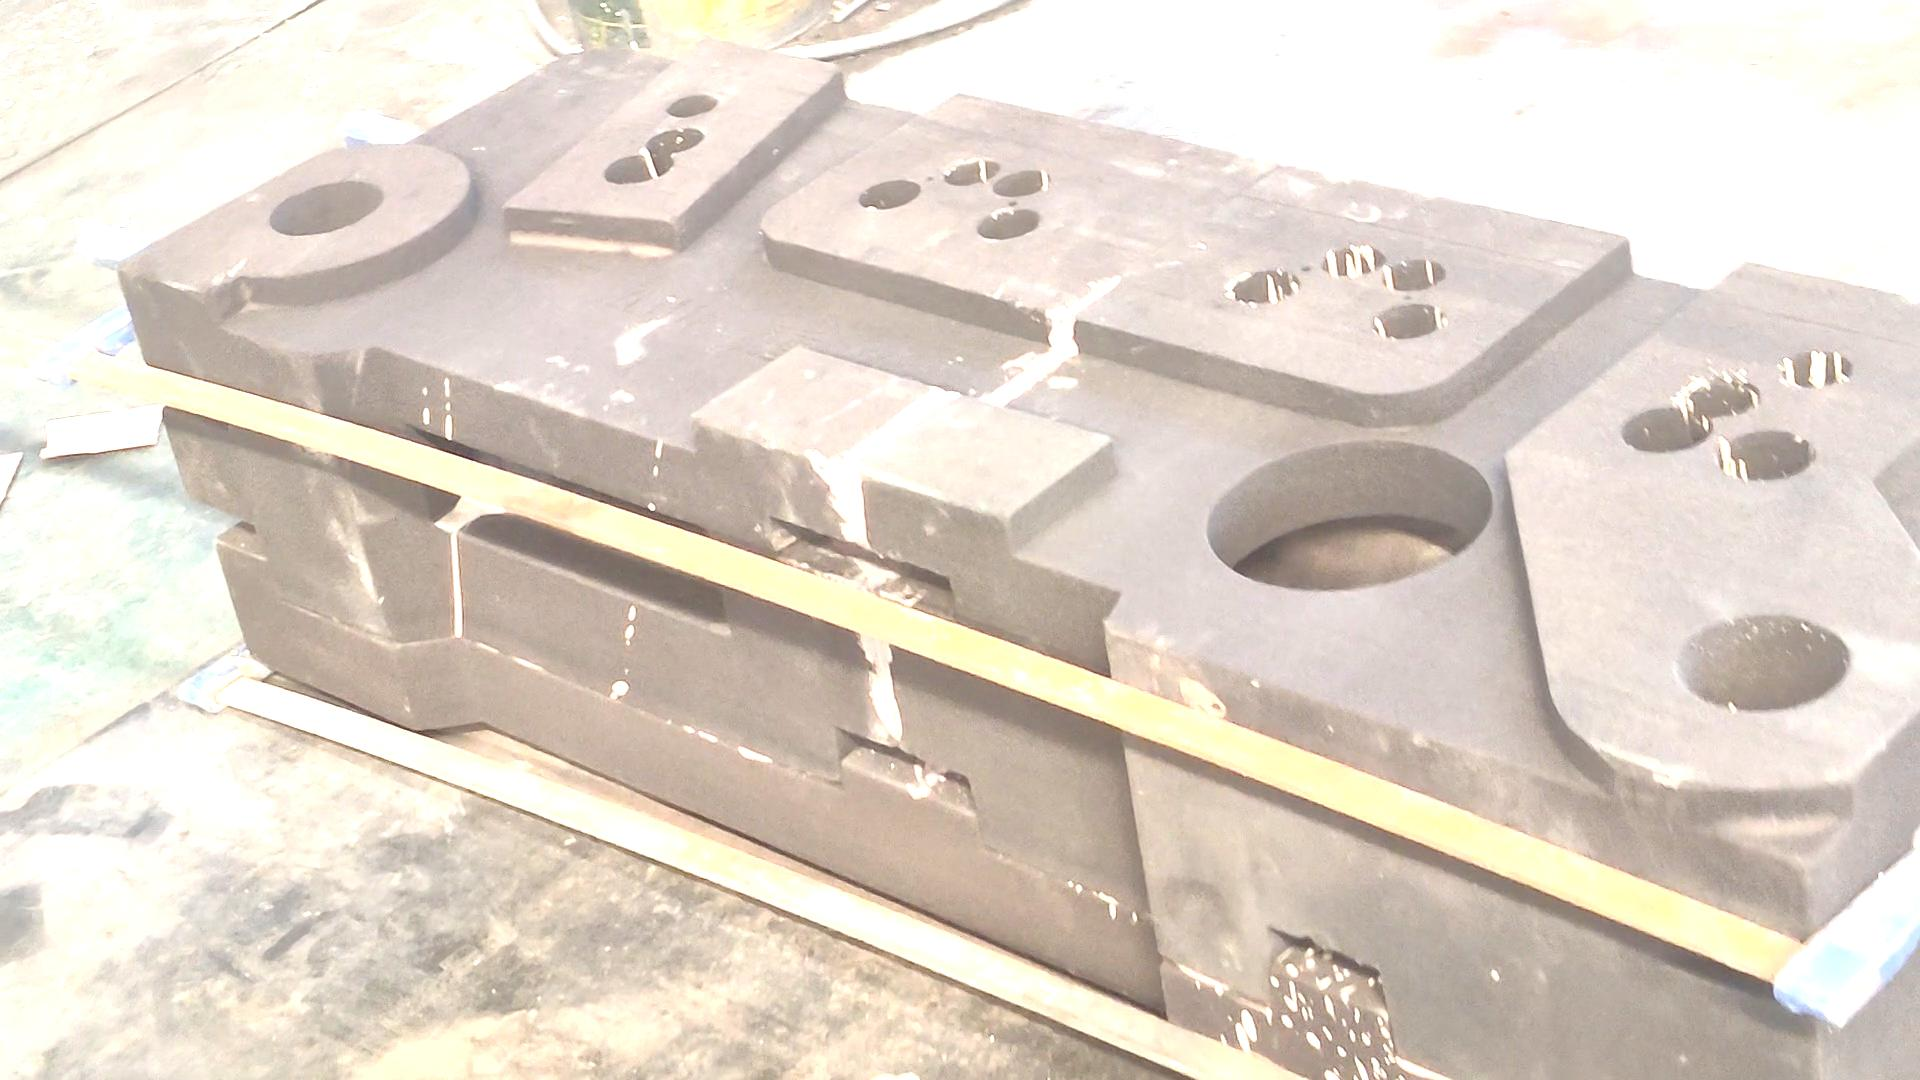pouring hole: (1673, 612, 1851, 711), (268, 178, 384, 235)
